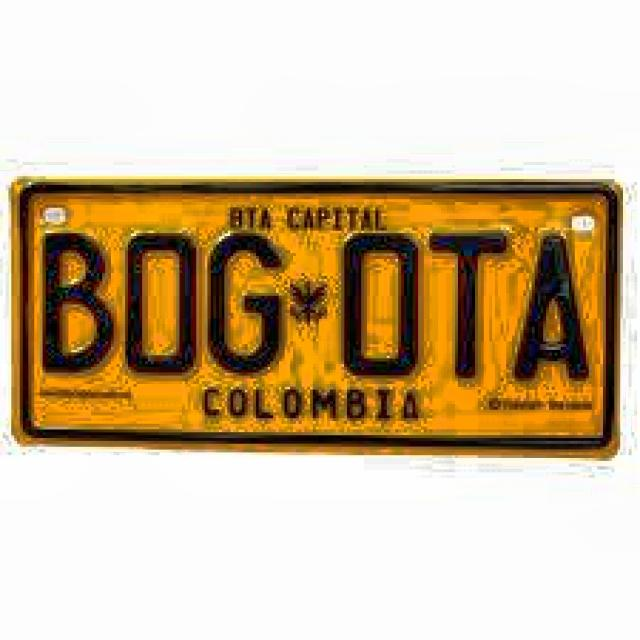plate: (18, 182, 614, 454)
